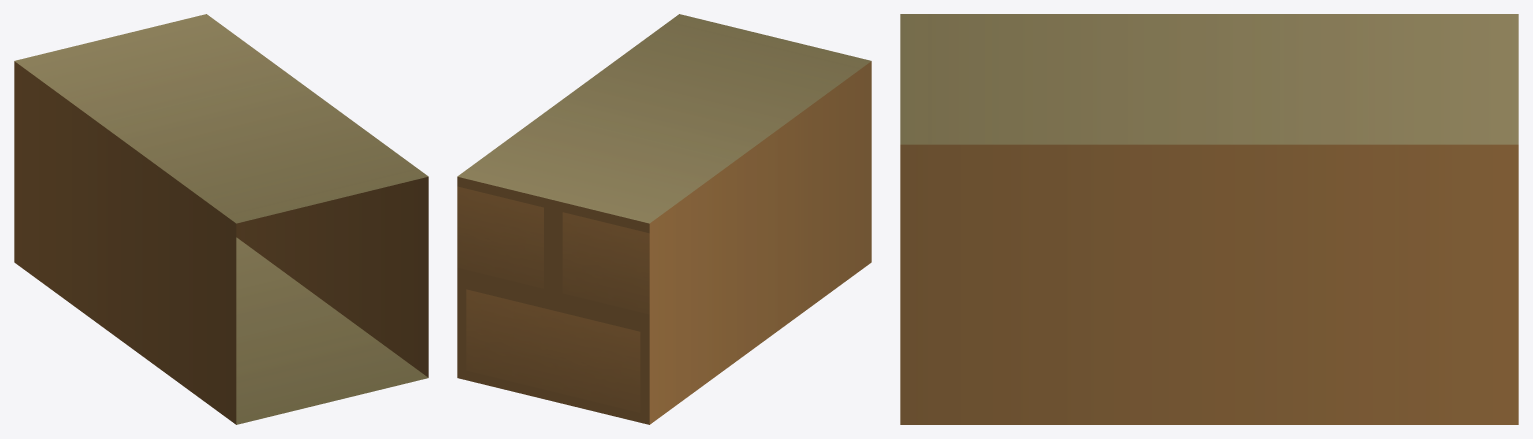
File: SM_Baseblock1x1Level1.fbx
The picture shows the model from 3 angles, left to right: view 1: azimuth 30°, elevation 25°; view 2: azimuth 150°, elevation 25°; view 3: azimuth 270°, elevation 25°; orthographic projection. The views are drawn at different scales.
Visible parts, largest first — view 1: SM_Baseblock1x1Level1.009; view 2: SM_Baseblock1x1Level1.009; view 3: SM_Baseblock1x1Level1.009.
Boxes of the visible parts, x1,y1,x2,y2 form: SM_Baseblock1x1Level1.009: (14,14,428,424); SM_Baseblock1x1Level1.009: (457,14,871,424); SM_Baseblock1x1Level1.009: (900,14,1518,424).
Size of the model in its own units: 100 by 200 by 100.
